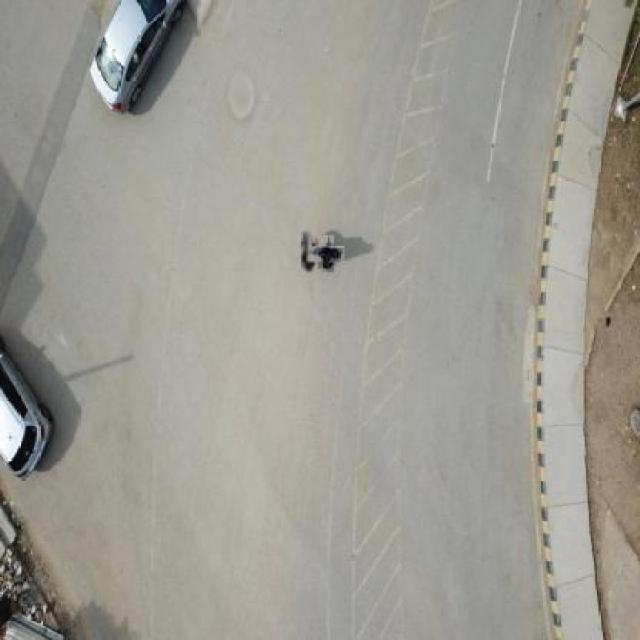Person: (312, 241, 340, 268), (299, 231, 316, 274)
